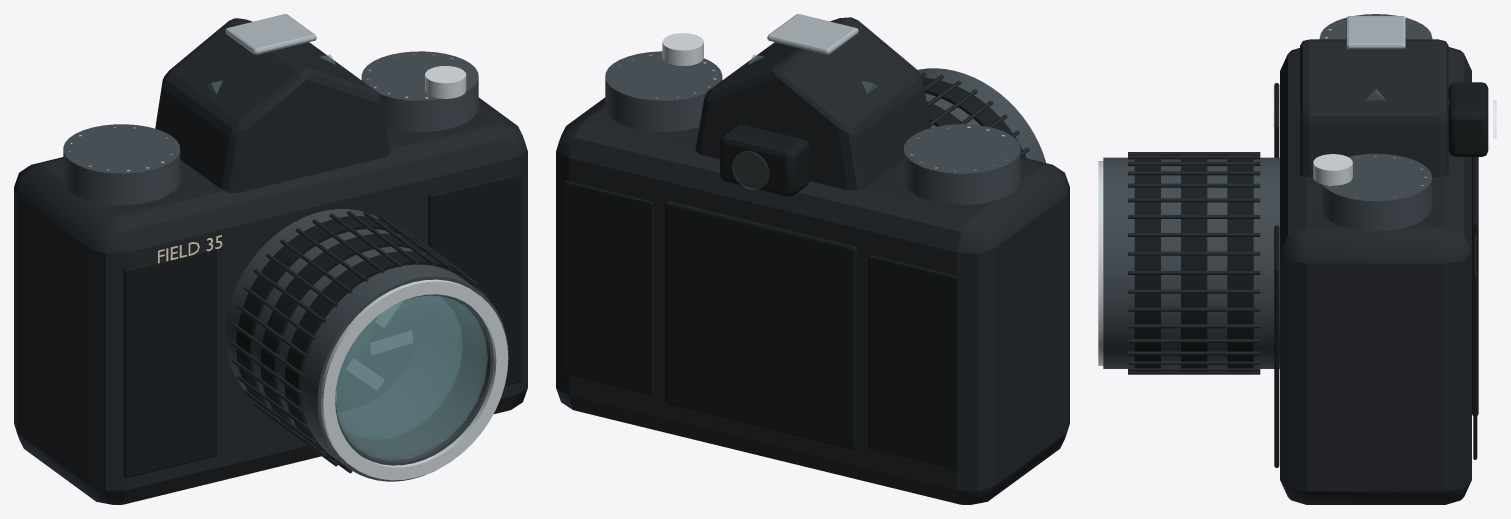
File: 08_SLR_Camera.glb
The picture shows the model from 3 angles, left to right: view 1: azimuth 30°, elevation 25°; view 2: azimuth 150°, elevation 25°; view 3: azimuth 270°, elevation 25°; orthographic projection. The views are drawn at different scales.
Parts seen in each view (by area): view 1: 01_camera_body_and_back, 02_lens_barrel_dials_and_trim, 08_lens_elements_and_aperture; view 2: 01_camera_body_and_back, 02_lens_barrel_dials_and_trim; view 3: 01_camera_body_and_back, 02_lens_barrel_dials_and_trim.
Boxes of the visible parts, <box> form: 01_camera_body_and_back: <box>14,18,527,504</box>; 02_lens_barrel_dials_and_trim: <box>63,14,508,481</box>; 08_lens_elements_and_aperture: <box>335,295,487,460</box>; 01_camera_body_and_back: <box>556,17,1069,504</box>; 02_lens_barrel_dials_and_trim: <box>605,14,1045,204</box>; 01_camera_body_and_back: <box>1274,39,1496,504</box>; 02_lens_barrel_dials_and_trim: <box>1098,14,1432,374</box>.
Size of the model in its own units: 0.146 by 0.128 by 0.1205.
